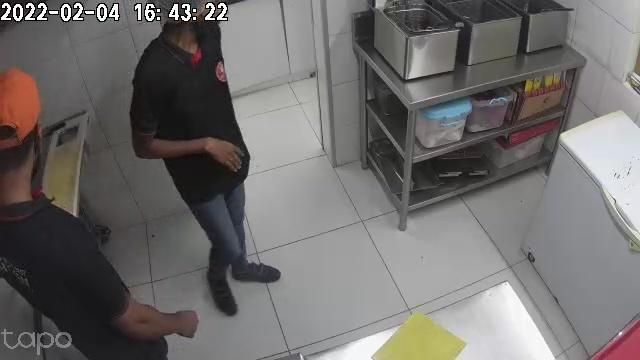no_gloves: (192, 139, 245, 172)
